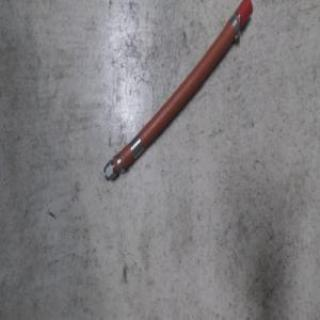Hosetrack_idkeyframe: (100, 0, 252, 185)
